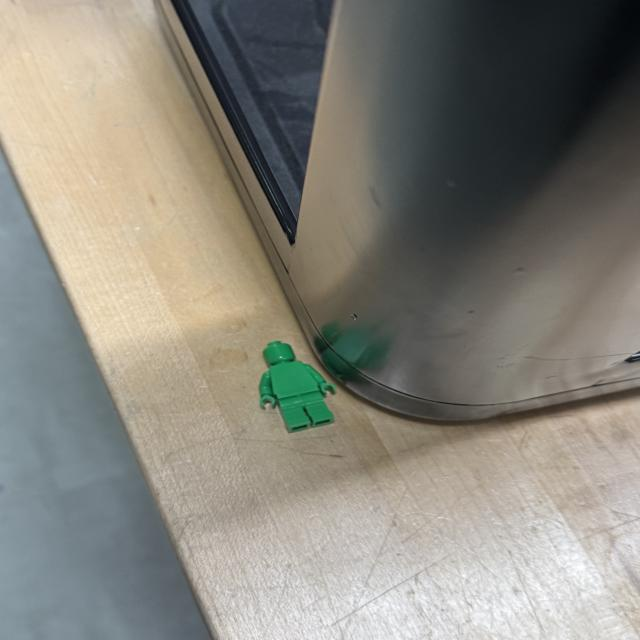Green Mini Figure: (259, 341, 336, 433)
